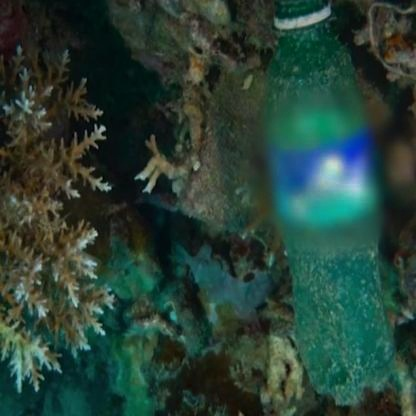pbottle: (267, 13, 416, 408)
